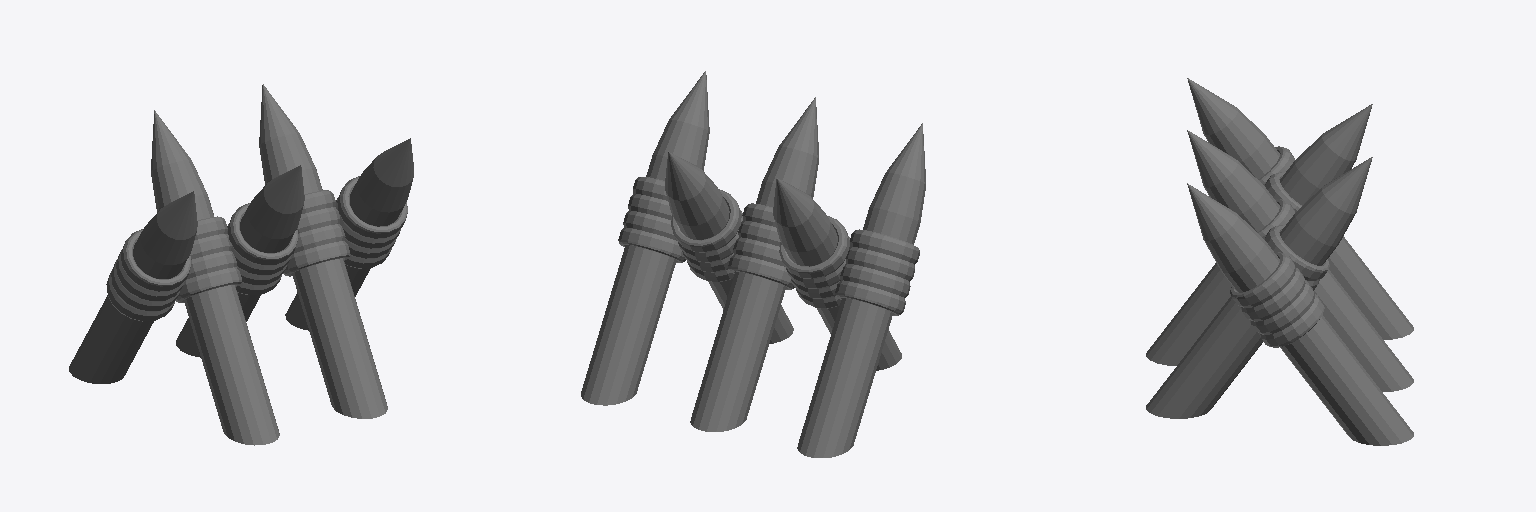
The model's file is Fence.obj.
The picture shows the model from 3 angles: view 1: azimuth 30°, elevation 25°; view 2: azimuth 150°, elevation 25°; view 3: azimuth 270°, elevation 25°; orthographic projection.
Parts seen in each view (by area): view 1: Fence_Object Fence2, Fence Fence_Object, Fence_Object Fence3, Fence_Object Fence4, Fence_Object Fence1, Fence_Object Rope3, Fence_Object Rope2, Fence_Object Rope, Fence_Object Rope1, Fence_Object Rope4; view 2: Fence_Object Fence3, Fence_Object Fence1, Fence_Object Fence4, Fence_Object Rope3, Fence Fence_Object, Fence_Object Fence2, Fence_Object Rope1, Fence_Object Rope4, Fence_Object Rope2, Fence_Object Rope; view 3: Fence_Object Fence1, Fence_Object Fence2, Fence_Object Fence4, Fence Fence_Object, Fence_Object Fence3, Fence_Object Rope1, Fence_Object Rope2.
Part boxes in pixels (x1,y1,x2,y2): Fence_Object Fence2: (259,84,387,418); Fence Fence_Object: (151,110,279,445); Fence_Object Fence3: (69,191,197,383); Fence_Object Fence4: (176,165,304,357); Fence_Object Fence1: (285,138,413,330); Fence_Object Rope3: (106,229,191,321); Fence_Object Rope2: (283,190,349,276); Fence_Object Rope: (175,216,241,302); Fence_Object Rope1: (335,176,407,268); Fence_Object Rope4: (227,203,298,294); Fence_Object Fence3: (797,123,925,457); Fence_Object Fence1: (581,71,709,405); Fence_Object Fence4: (690,97,818,431); Fence_Object Rope3: (835,229,919,315); Fence Fence_Object: (773,178,901,370); Fence_Object Fence2: (665,151,793,343); Fence_Object Rope1: (618,177,685,262); Fence_Object Rope4: (728,203,794,289); Fence_Object Rope2: (671,189,742,281); Fence_Object Rope: (779,216,849,308); Fence_Object Fence1: (1187,183,1413,445); Fence_Object Fence2: (1146,157,1372,418); Fence_Object Fence4: (1187,130,1413,391); Fence Fence_Object: (1146,104,1372,365); Fence_Object Fence3: (1187,78,1413,339); Fence_Object Rope1: (1230,252,1324,347); Fence_Object Rope2: (1265,225,1329,290).
Bounding box in the file's own units: 3.82 × 3.3 × 3.18.